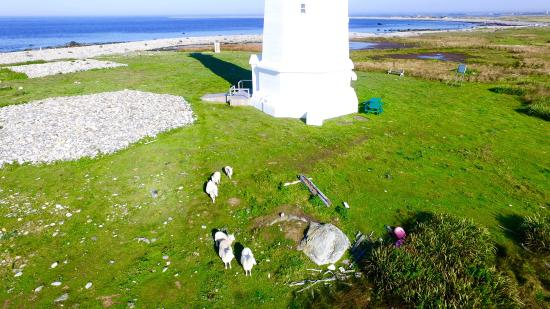sheep: (214, 241, 237, 265), (386, 221, 408, 242), (238, 249, 255, 275), (211, 232, 234, 244), (219, 163, 235, 179), (207, 172, 226, 185), (204, 182, 217, 199)
